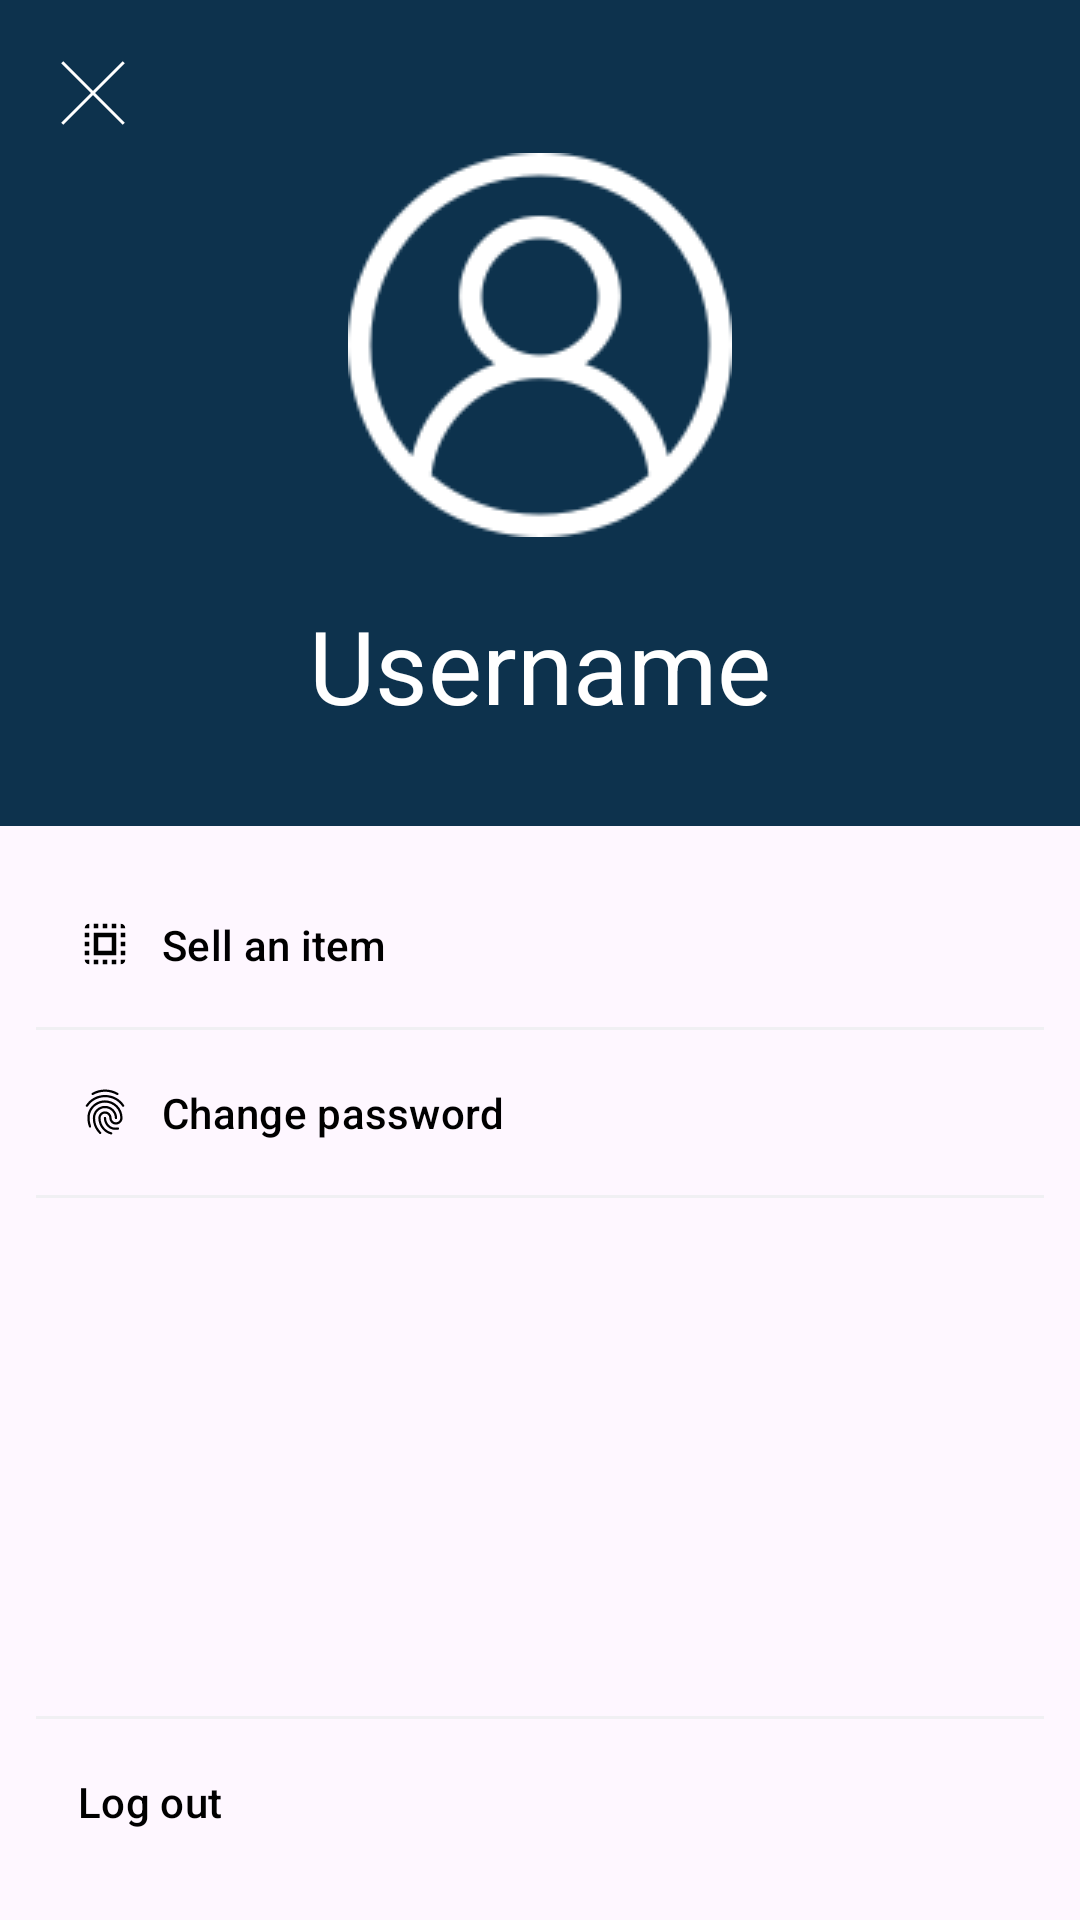

Screen size 1080w x 1920h. Icon name, then its box in pixels as detection(x1, y1, x2, y2):
close: detection(61, 61, 125, 125)
